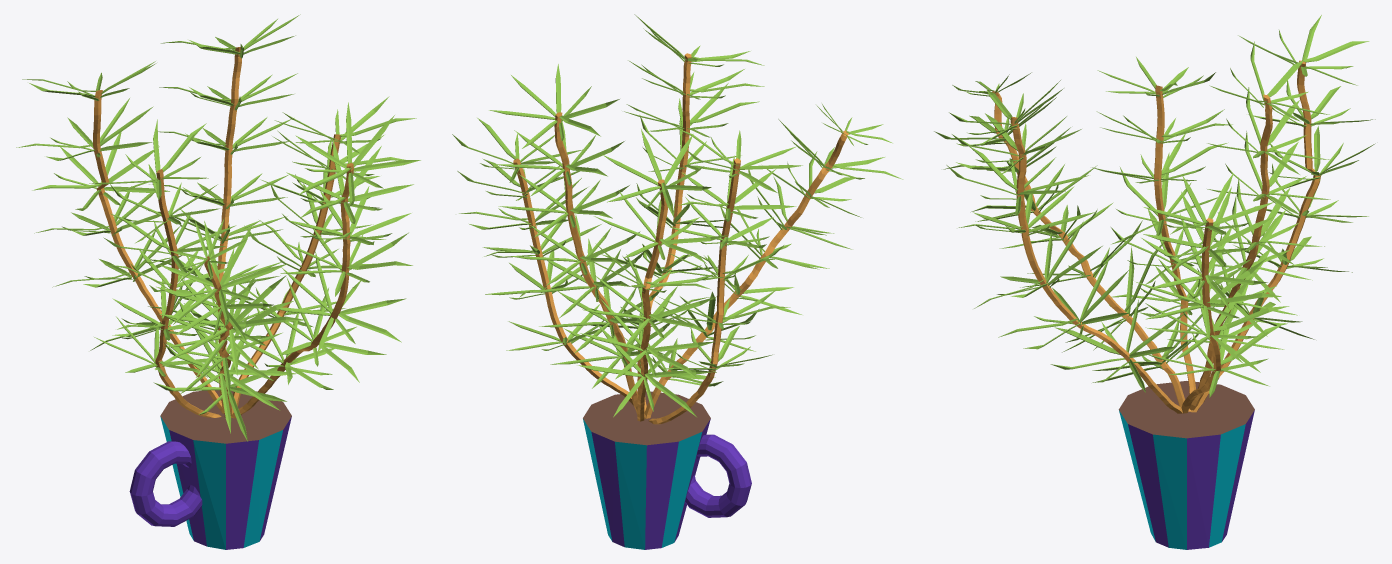
File: rosemary.glb
3 renders of one model, left to right at view 1: azimuth 30°, elevation 25°; view 2: azimuth 150°, elevation 25°; view 3: azimuth 270°, elevation 25°, orthographic. The views are drawn at different scales.
Parts seen in each view (by area): view 1: group920658786; view 2: group920658786; view 3: group920658786.
Part boxes in pixels (left/top/right/bottom): group920658786: left=16, top=14, right=420, bottom=549; group920658786: left=452, top=14, right=903, bottom=549; group920658786: left=934, top=15, right=1375, bottom=549.
Bounding box in the file's own units: 1.02 × 1.35 × 1.11.
